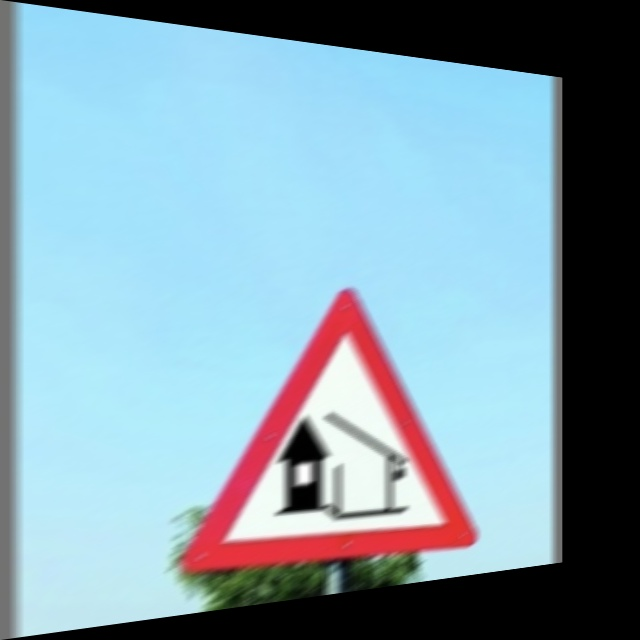Barrier_Ahead: (180, 288, 479, 581)
